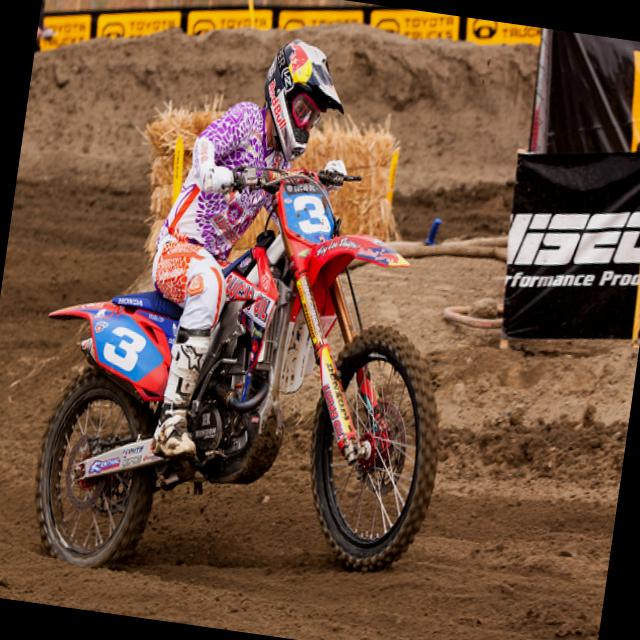Vehicle: (14, 123, 487, 632)
